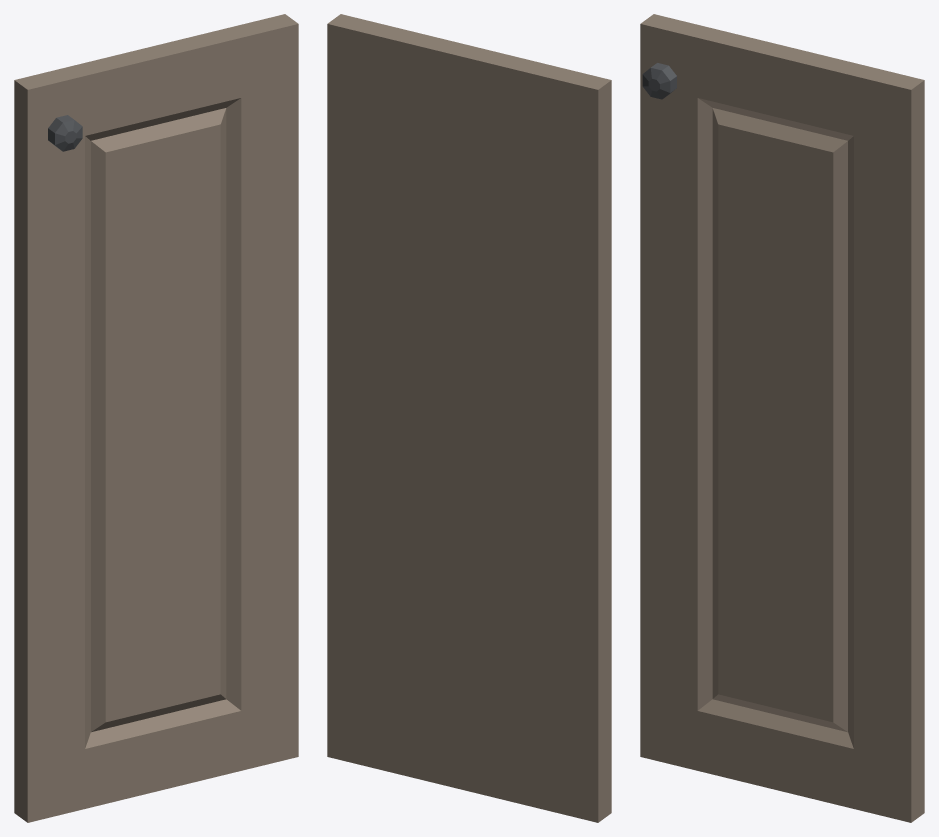
Rendered from Door3_C5_03.fbx.
The picture shows the model from 3 angles, left to right: view 1: azimuth 30°, elevation 25°; view 2: azimuth 150°, elevation 25°; view 3: azimuth 330°, elevation 25°; orthographic projection.
Visible parts, largest first — view 1: Door3_C5_03; view 2: Door3_C5_03; view 3: Door3_C5_03.
Part boxes in pixels (x1,y1,x2,y2): Door3_C5_03: [14, 14, 298, 822]; Door3_C5_03: [327, 14, 611, 822]; Door3_C5_03: [640, 14, 924, 822].
Size of the model in its own units: 29 by 75 by 5.19.
